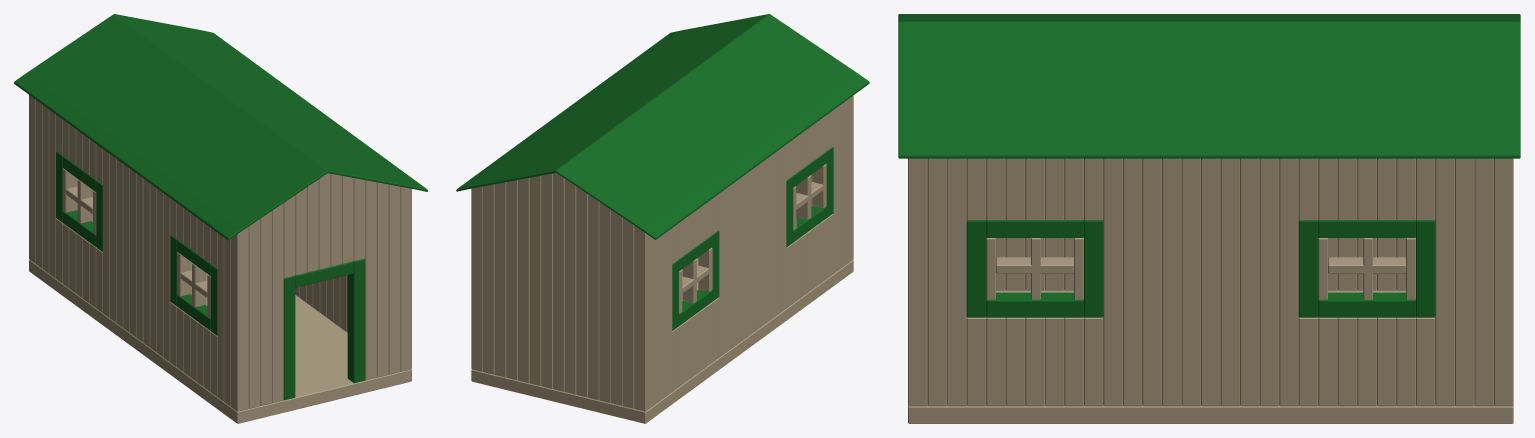
File: House_02.fbx
3 views of the same model, side by side, from view 1: azimuth 30°, elevation 25°; view 2: azimuth 150°, elevation 25°; view 3: azimuth 270°, elevation 25° (orthographic). The views are drawn at different scales.
Visible parts, largest first — view 1: House_02; view 2: House_02; view 3: House_02.
Part boxes in pixels (x1,y1,x2,y2): House_02: (14, 14, 427, 423); House_02: (456, 14, 869, 423); House_02: (898, 14, 1520, 423).
Bounding box in the file's own units: 343 × 385 × 637.
